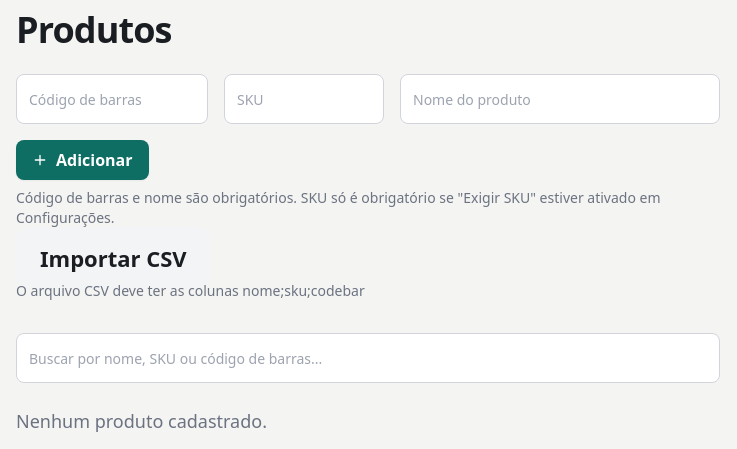
Test case: ProductsPage › shows a clear message when the barcode is already registered
Type "7891234000011" into the field with placeholder "Código de barras". click: (112, 99)
box: [16, 74, 208, 124]
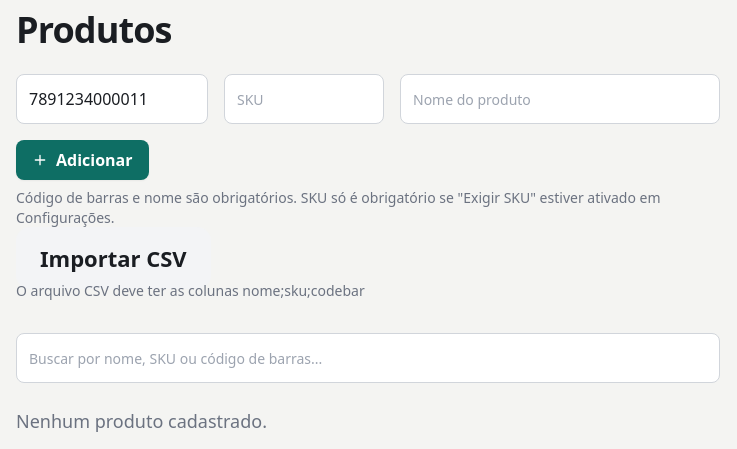
Type "SKU-X" into the field with placeholder "SKU". click: (304, 99)
box: [224, 74, 384, 124]
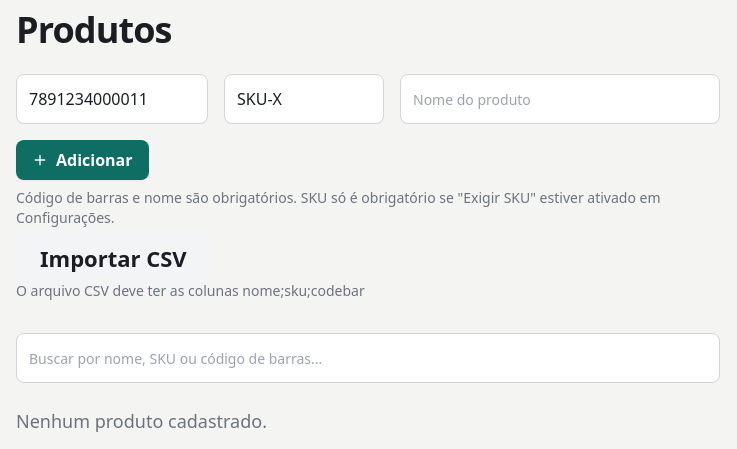
Type "Produto X" into the field with placeholder "Nome do produto". click: (560, 99)
box: [400, 74, 720, 124]
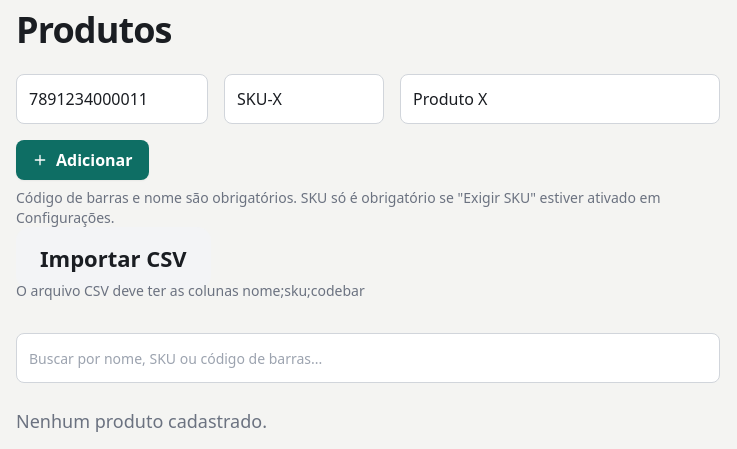
Click the button "Adicionar". click: (82, 160)
box: [16, 140, 148, 180]
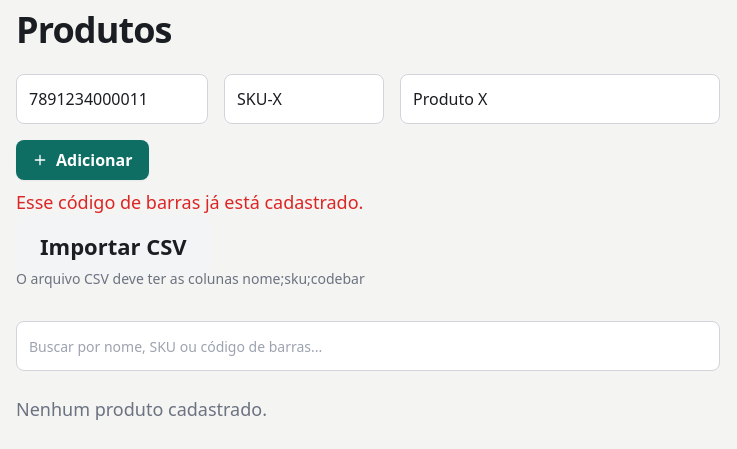
Expected: the text "Esse código de barras já está cadastrado." is shown, [16, 190, 363, 214]
